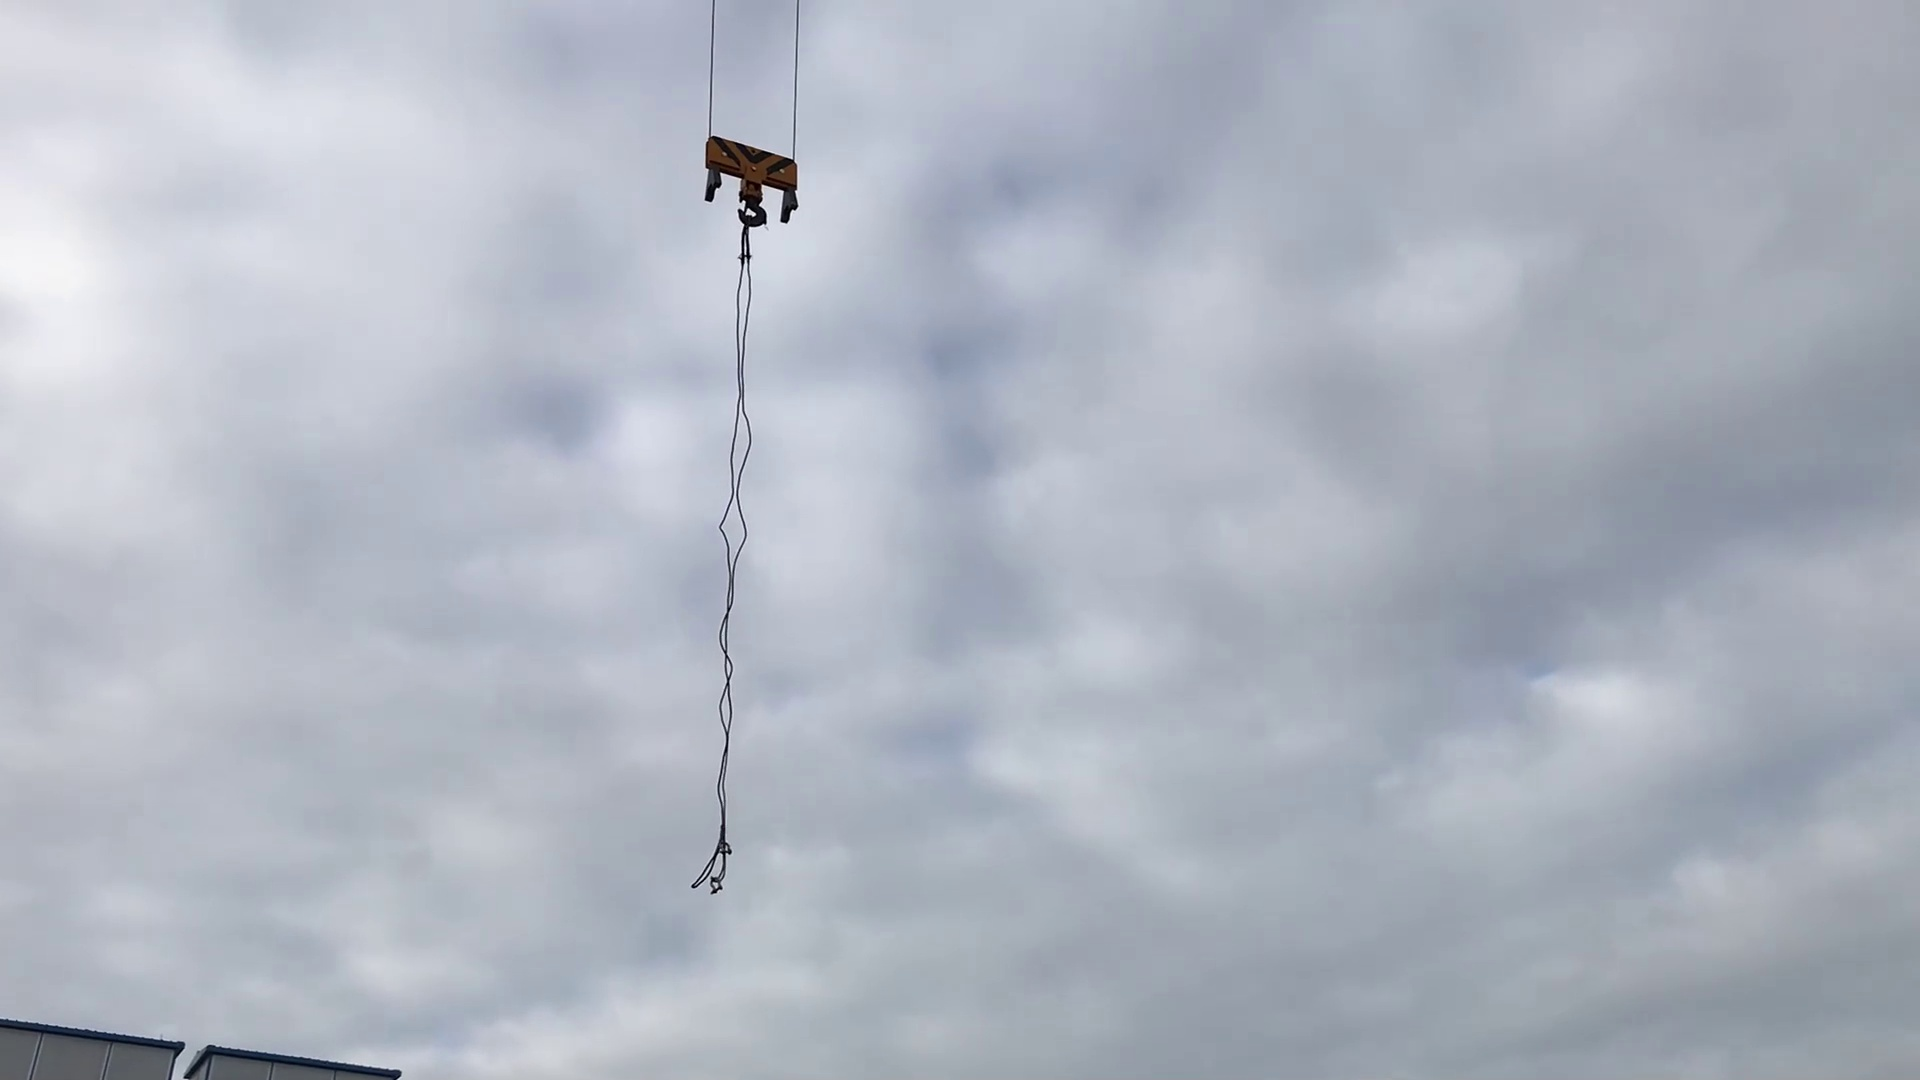hook: (698, 132, 802, 231)
